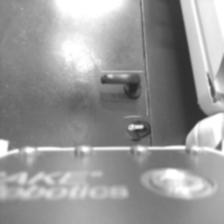Door Handle: (102, 71, 144, 100)
Lock: (125, 114, 150, 140)
